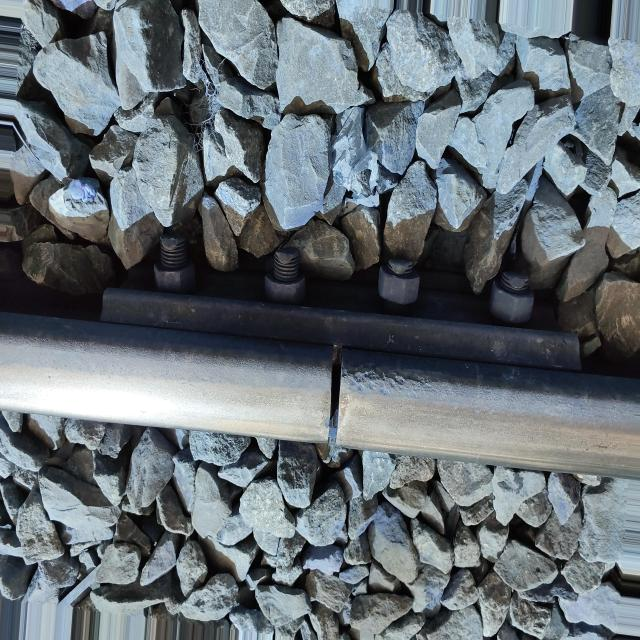crack: (304, 332, 361, 452)
